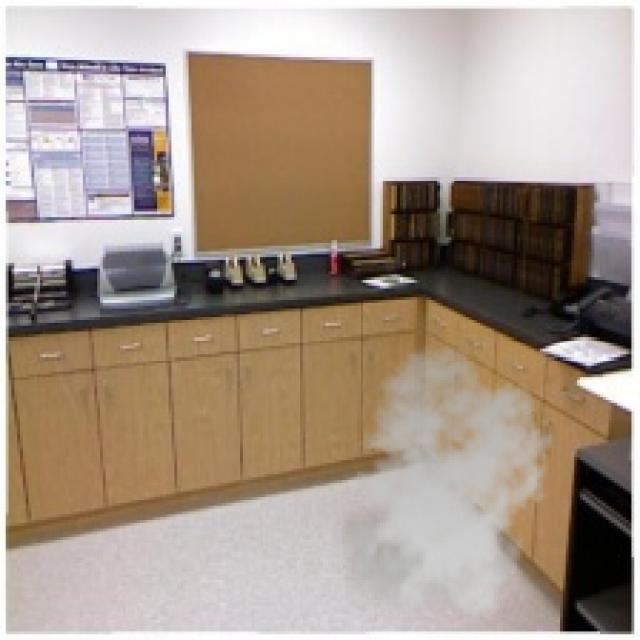smoke: (334, 346, 554, 628)
